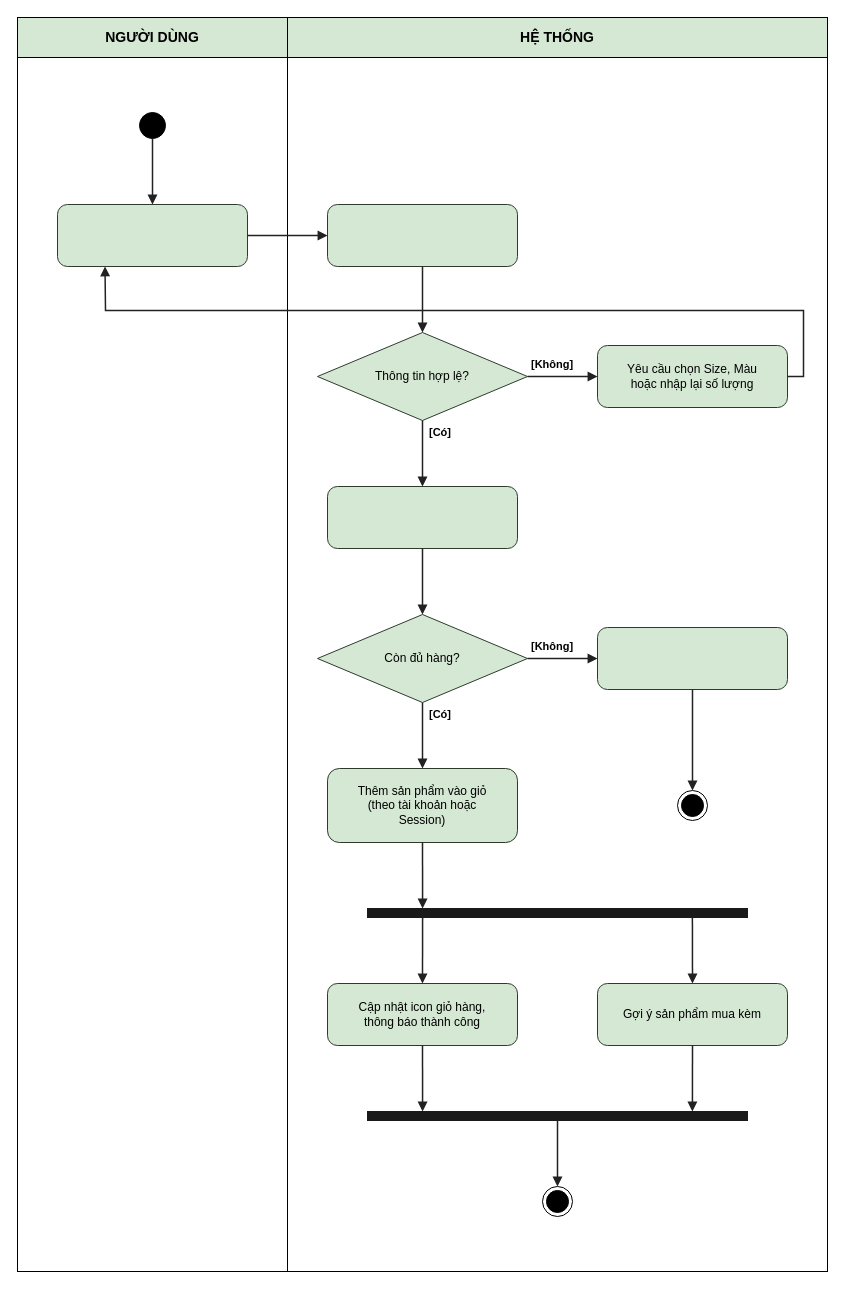
This 845x1289 diagram has some shape labels left out. Here are the shapes that lost their labels. From the top down, the centre of each, then its label:
point (152, 235): Chọn Size, Màu, số lượng, click "Thêm vào giỏ hàng"
point (422, 235): Kiểm tra Size, Màu và số lượng
point (422, 517): Kiểm tra tồn kho
point (692, 658): Thông báo hết hàng hoặc chỉ còn X sản phẩm
